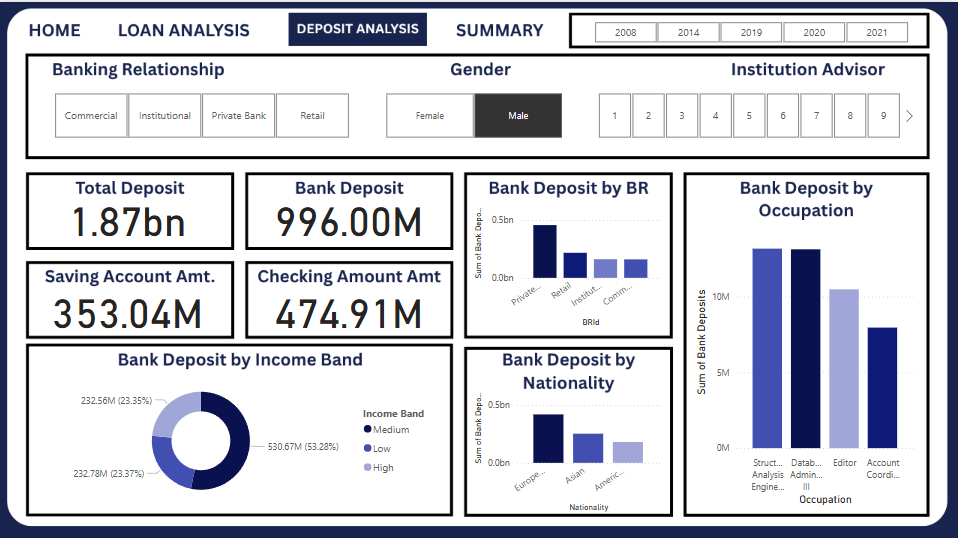

What the dashboard file says about the page in this screenshot:
{"tool":"powerbi","page":{"name":"Deposit Analysis","canvas":[1280,720],"ordinal":2},"visuals":[{"type":"actionButton","box":[34.1,20,84.1,40],"z":0},{"type":"actionButton","box":[153.3,20,198.3,40],"z":1000},{"type":"actionButton","box":[602.2,16.3,133,47.4],"z":2000},{"type":"slicer","fields":{"Values":["Banking_Clients.Year of Joining"]},"box":[770,20,467.1,37.1],"z":3000},{"type":"card","fields":{"Values":["Blank Query.Total Deposit"]},"box":[50,261.4,245.7,70],"z":4000},{"type":"card","fields":{"Values":["Sum(Banking_Clients.Saving Accounts)"]},"box":[50,385.7,245.7,70],"z":5000},{"type":"card","fields":{"Values":["Sum(Banking_Clients.Checking Accounts)"]},"box":[345.7,384.3,245.7,70],"z":6000},{"type":"card","fields":{"Values":["Sum(Banking_Clients.Bank Deposits)"]},"box":[345.7,261.4,245.7,70],"z":7000},{"type":"donutChart","fields":{"Category":["Banking_Clients.Income Band"],"Y":["Sum(Banking_Clients.Bank Deposits)"]},"box":[50,497.1,541.4,177.1],"z":8000},{"type":"columnChart","fields":{"Series":["Banking_Clients.BRId"],"Category":["Banking_Clients.BRId"],"Y":["Sum(Banking_Clients.Bank Deposits)"]},"box":[630,261.4,258.6,177.1],"z":9000},{"type":"columnChart","fields":{"Category":["Banking_Clients.Nationality"],"Y":["Sum(Banking_Clients.Bank Deposits)"]},"box":[630,507.9,258.6,177.1],"z":10000},{"type":"columnChart","fields":{"Category":["Banking_Clients.Occupation"],"Y":["Sum(Banking_Clients.Bank Deposits)"]},"box":[925,297.5,301.2,377.5],"z":11000},{"type":"slicer","fields":{"Values":["Banking_Clients.BRId"]},"box":[50,114.3,441.4,72.9],"z":12000},{"type":"slicer","fields":{"Values":["Banking_Clients.GenderId"]},"box":[491.4,114.3,284.3,72.9],"z":13000},{"type":"slicer","fields":{"Values":["Banking_Clients.IAId"]},"box":[775.7,114.3,451.4,72.9],"z":14000}]}

Visuals, with their boxes in screenshot pixels (x1, y1, x2, y2), scaled from the page's 1280x720 canvas onto the 958x538 screenshot:
actionButton: 26, 15, 88, 45
actionButton: 115, 15, 263, 45
actionButton: 451, 12, 550, 48
slicer - Banking_Clients.Year of Joining: 576, 15, 926, 43
card - Blank Query.Total Deposit: 37, 195, 221, 248
card - Sum(Banking_Clients.Saving Accounts): 37, 288, 221, 341
card - Sum(Banking_Clients.Checking Accounts): 259, 287, 443, 339
card - Sum(Banking_Clients.Bank Deposits): 259, 195, 443, 248
donutChart - Banking_Clients.Income Band x Sum(Banking_Clients.Bank Deposits): 37, 371, 443, 504
columnChart - Banking_Clients.BRId x Banking_Clients.BRId: 472, 195, 665, 328
columnChart - Banking_Clients.Nationality x Sum(Banking_Clients.Bank Deposits): 472, 380, 665, 512
columnChart - Banking_Clients.Occupation x Sum(Banking_Clients.Bank Deposits): 692, 222, 918, 504
slicer - Banking_Clients.BRId: 37, 85, 368, 140
slicer - Banking_Clients.GenderId: 368, 85, 581, 140
slicer - Banking_Clients.IAId: 581, 85, 918, 140
